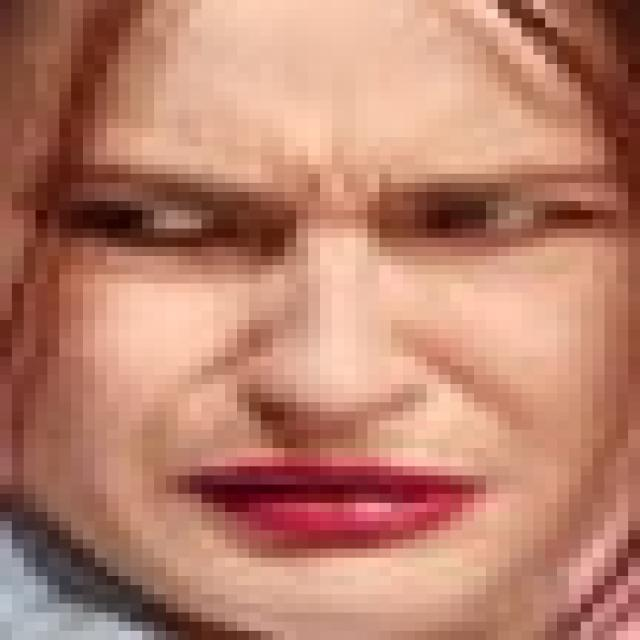Anxiety: (0, 2, 628, 631)
